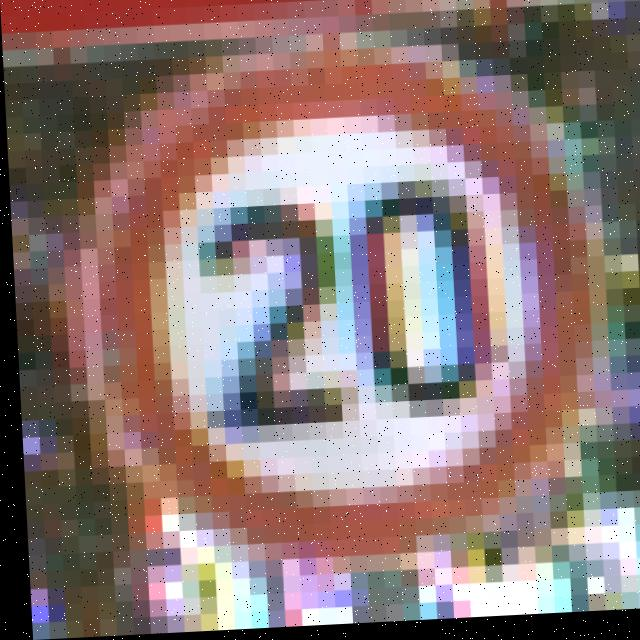speed_limit_20: (95, 40, 629, 563)
